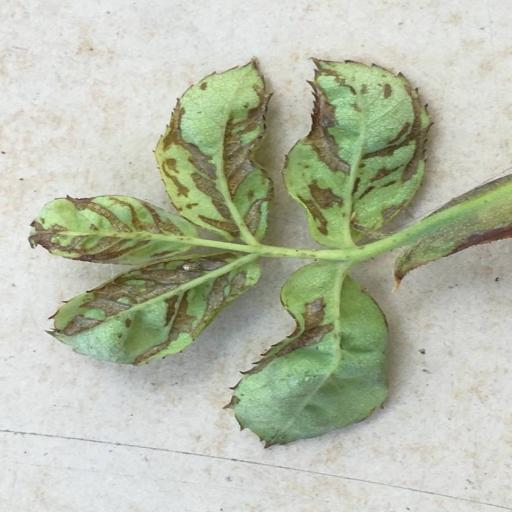thrip: (230, 261, 388, 447), (284, 59, 429, 246), (51, 252, 260, 363), (155, 61, 271, 241), (371, 174, 511, 287), (29, 196, 197, 265), (383, 83, 391, 98)
